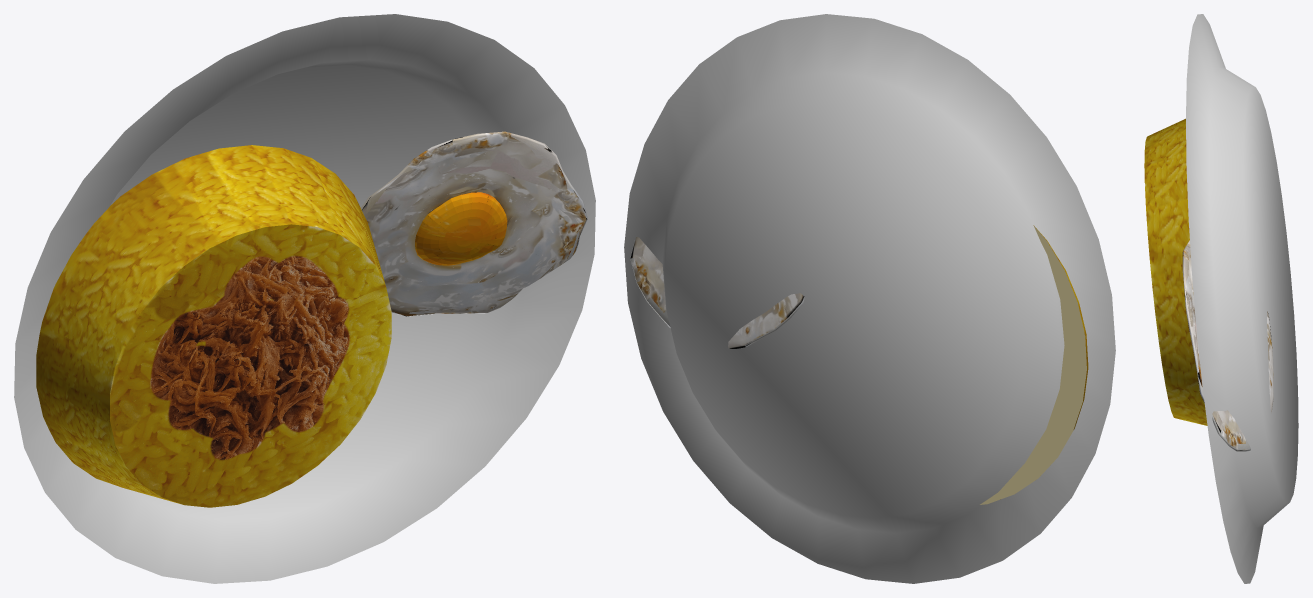
Rendered from pastil.glb.
The picture shows the model from 3 angles, left to right: view 1: azimuth 30°, elevation 25°; view 2: azimuth 150°, elevation 25°; view 3: azimuth 270°, elevation 25°; orthographic projection. The views are drawn at different scales.
Visible parts, largest first — view 1: Circle.002, Cylinder.002, Sphere; view 2: Circle.002, Cylinder.002, Sphere; view 3: Circle.002, Cylinder.002, Sphere.
Part boxes in pixels (x1,y1,x2,y2): Circle.002: (14, 14, 595, 583); Cylinder.002: (36, 145, 391, 507); Sphere: (361, 131, 587, 316); Circle.002: (624, 14, 1115, 583); Cylinder.002: (980, 225, 1088, 504); Sphere: (630, 237, 804, 348); Circle.002: (1186, 14, 1298, 583); Cylinder.002: (1144, 118, 1207, 425); Sphere: (1182, 240, 1273, 451).
Bounding box in the file's own units: 8.73 × 8.68 × 2.35.
4 materials, 3 textured.
